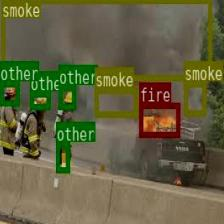fire: (138, 103, 179, 136)
smoke: (1, 0, 211, 79), (94, 86, 137, 116), (182, 80, 206, 114)
